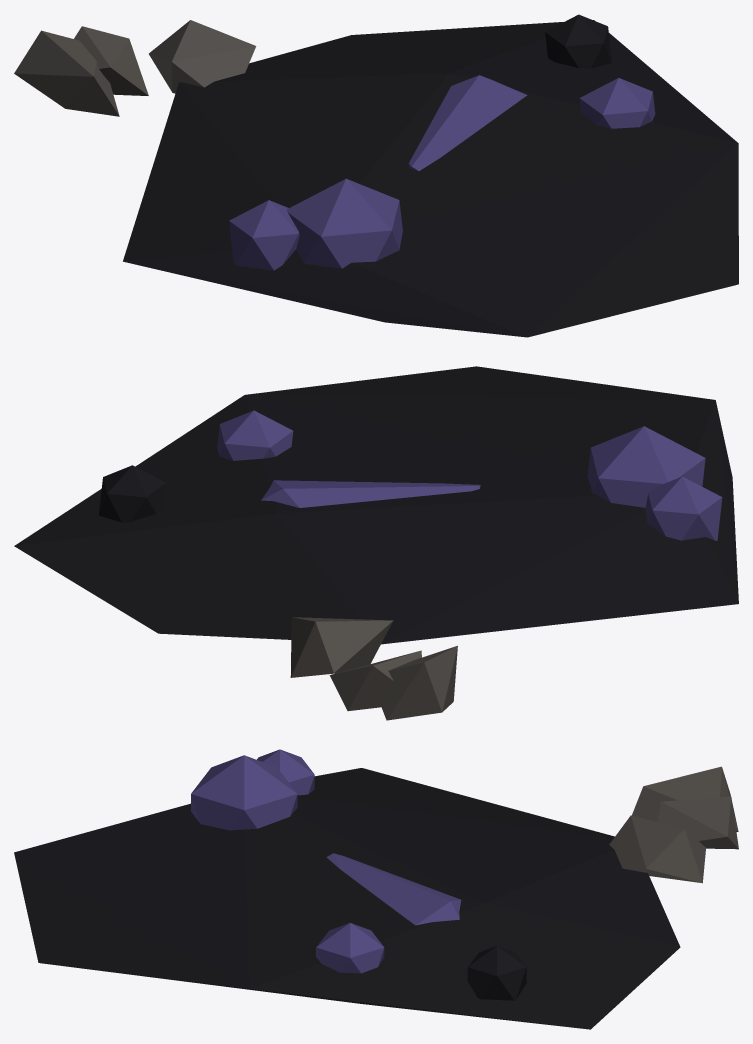
Rendered from minerai_petrole_1.glb.
3 renders of one model, top to bottom at view 1: azimuth 30°, elevation 25°; view 2: azimuth 150°, elevation 25°; view 3: azimuth 270°, elevation 25°, orthographic. The views are drawn at different scales.
Visible parts, largest first — view 1: petrole_petrole.004, petrole_irise.004, petrole_pierre_sombre.004; view 2: petrole_petrole.004, petrole_irise.004, petrole_pierre_sombre.004; view 3: petrole_petrole.004, petrole_irise.004, petrole_pierre_sombre.004.
Boxes of the visible parts, x1,y1,x2,y2 form: petrole_petrole.004: (123,14,738,337); petrole_irise.004: (229,75,655,270); petrole_pierre_sombre.004: (14,20,256,116); petrole_petrole.004: (14,366,738,644); petrole_irise.004: (217,410,722,540); petrole_pierre_sombre.004: (290,617,457,720); petrole_petrole.004: (14,768,680,1029); petrole_irise.004: (191,749,461,973); petrole_pierre_sombre.004: (609,766,738,883).
Bounding box in the file's own units: 0.3226 × 0.0644 × 0.3723.
